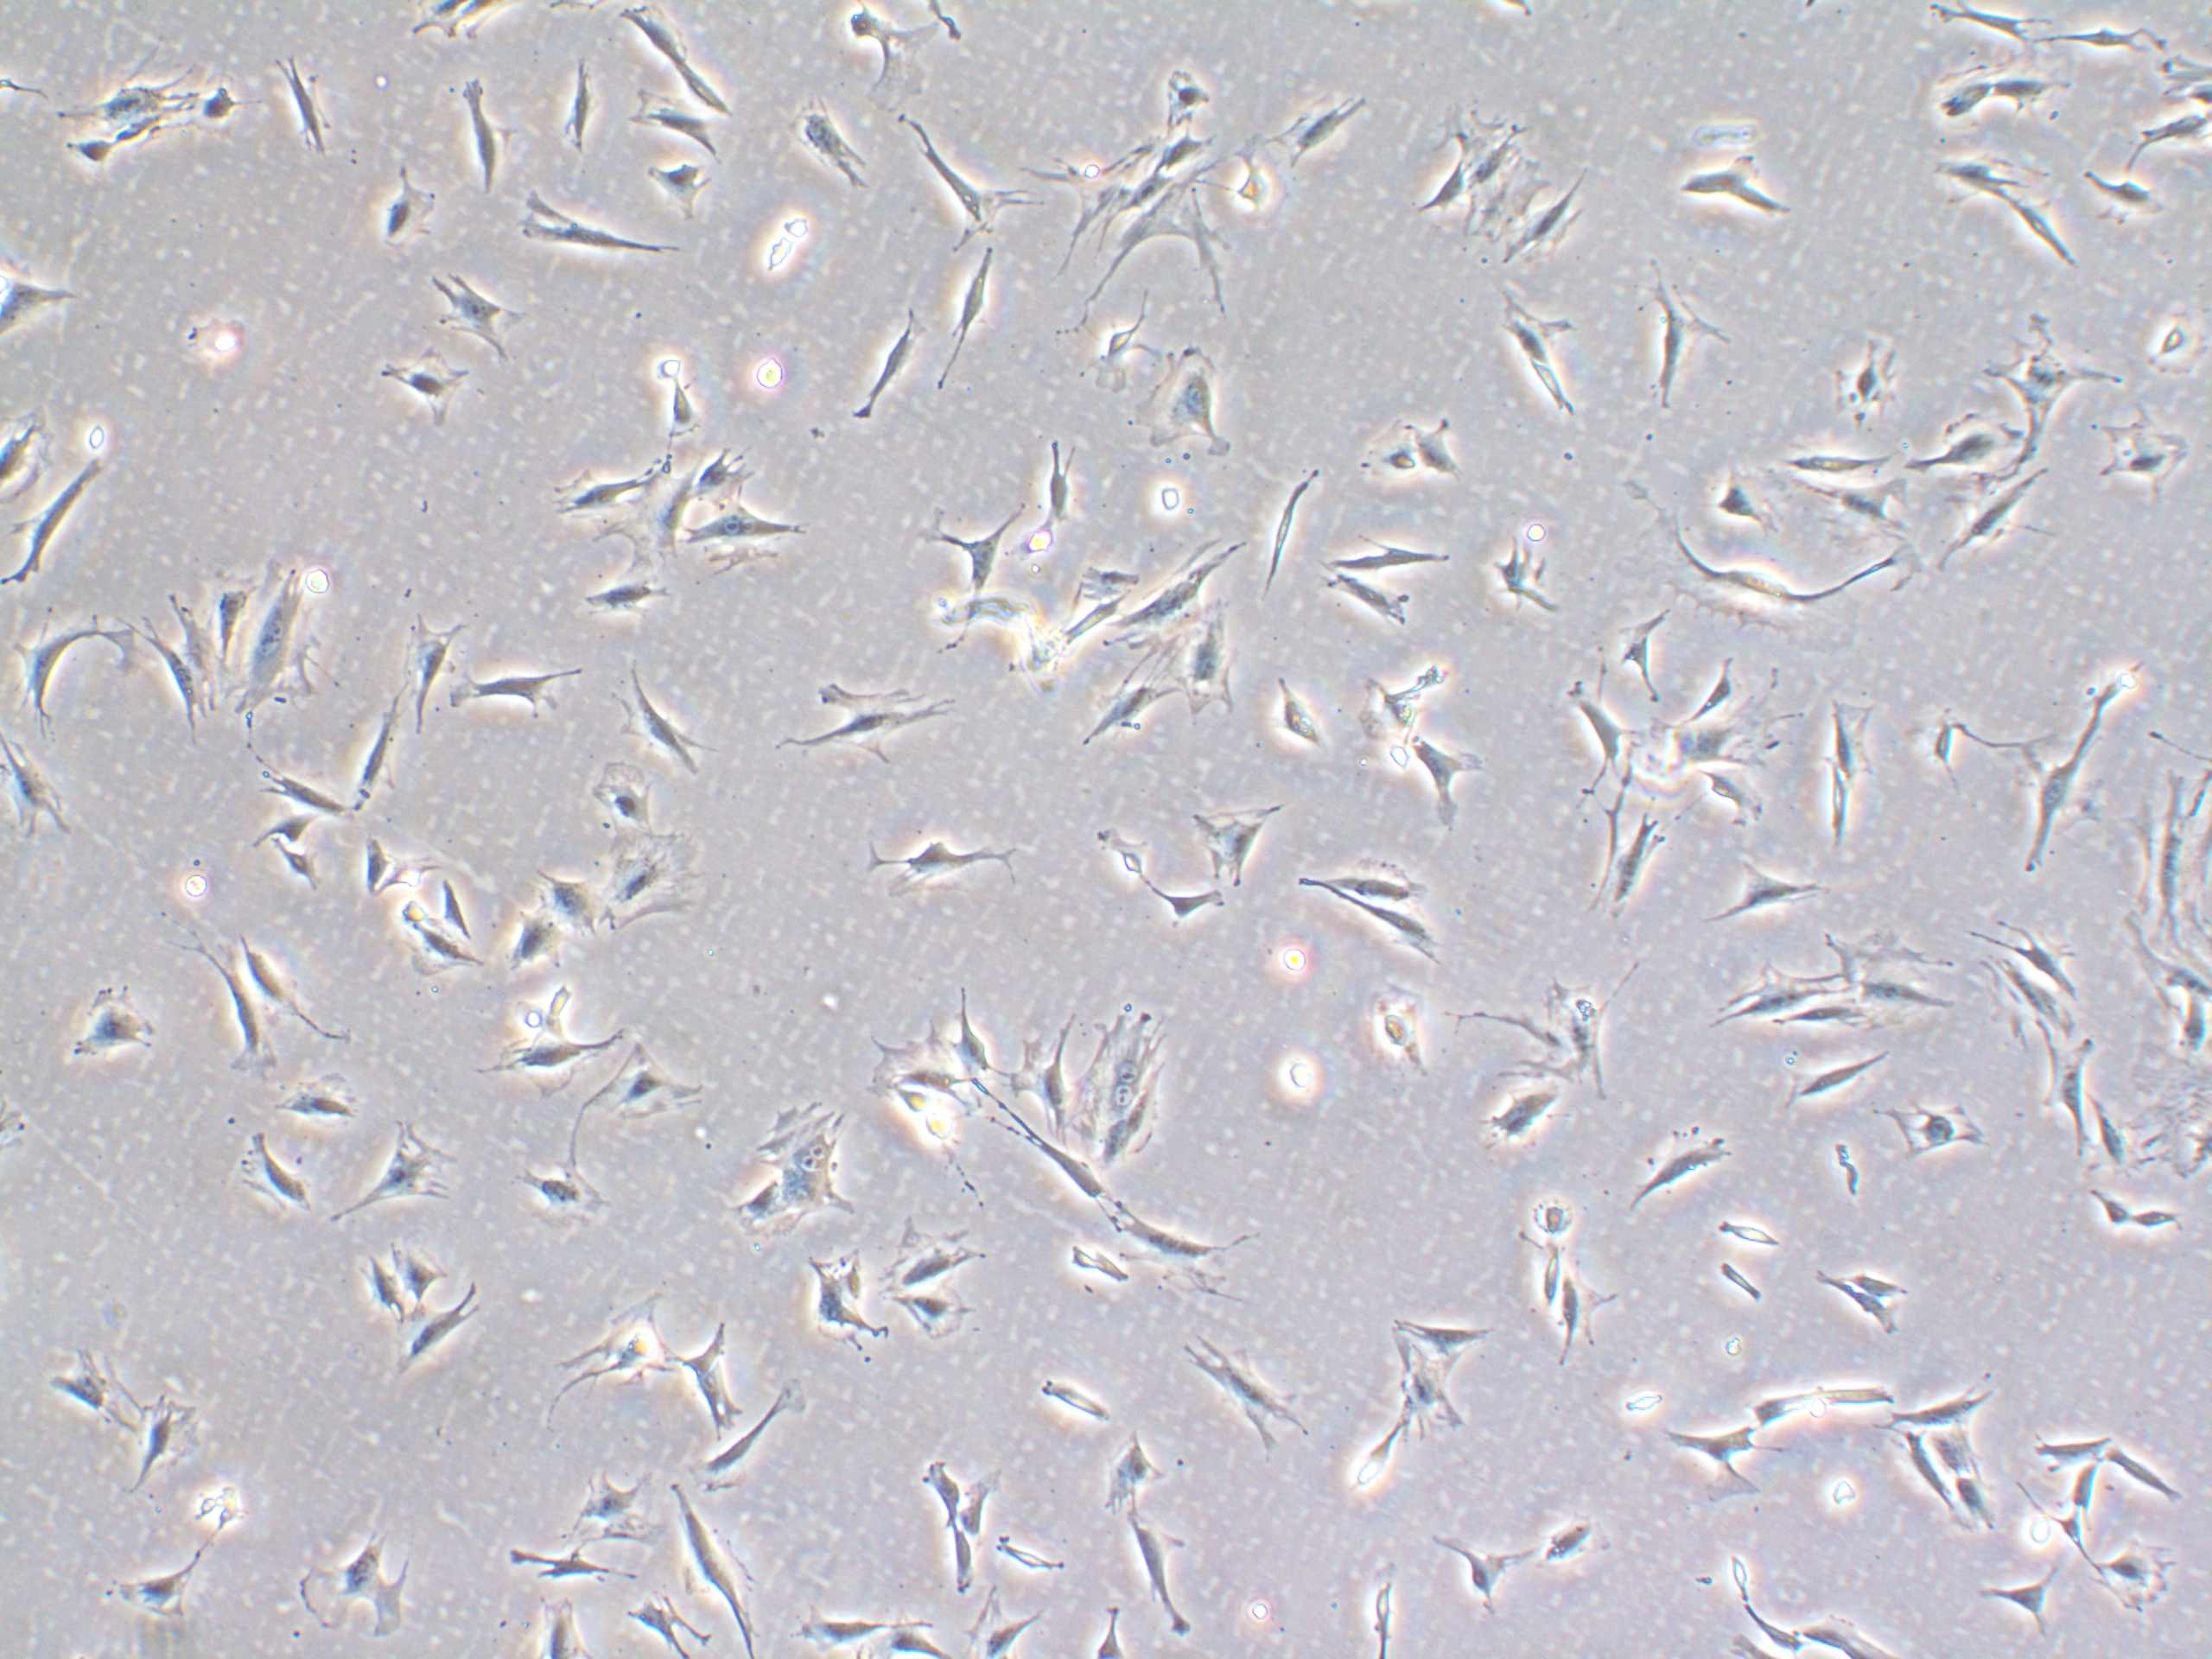small: (2132, 279, 2210, 392), (1008, 1358, 1122, 1434), (993, 1525, 1082, 1591), (1703, 1204, 1789, 1263), (1522, 1180, 1599, 1243), (657, 382, 719, 446)
spread: (1615, 511, 1892, 676), (1035, 134, 1237, 300), (707, 1091, 904, 1246), (1627, 680, 1820, 816), (1069, 993, 1207, 1171), (1477, 962, 1639, 1108), (242, 507, 338, 751), (1813, 913, 1961, 1065), (30, 54, 219, 166), (1109, 343, 1270, 474), (1423, 105, 1557, 258), (2113, 758, 2212, 939), (596, 828, 740, 948), (547, 1284, 685, 1408), (587, 453, 700, 582), (1146, 598, 1242, 741)
